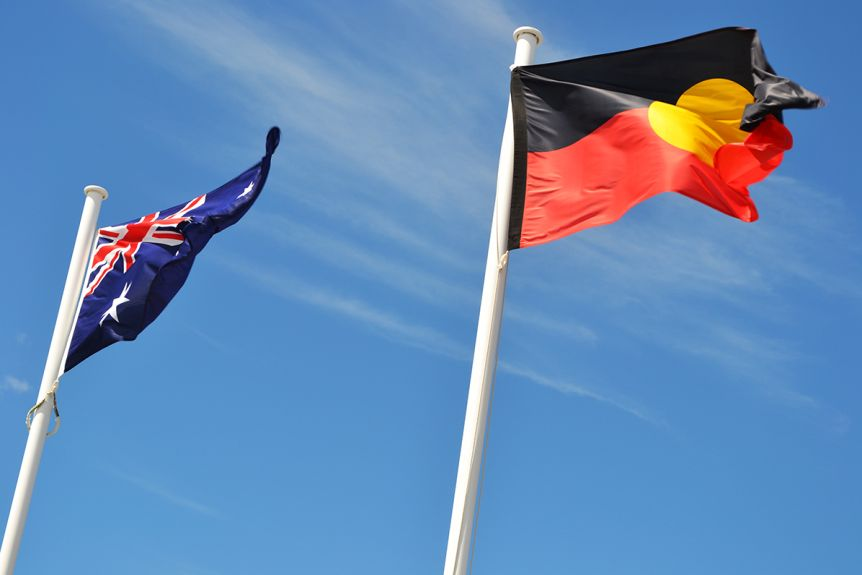aboriginal_flag: (499, 20, 834, 257)
